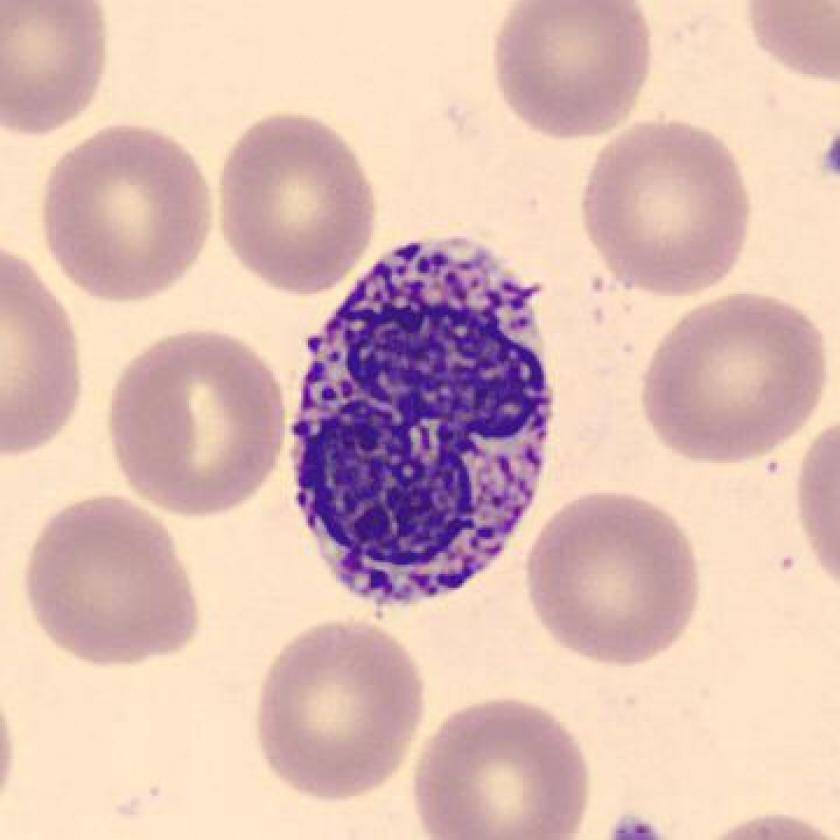basophil: (288, 221, 556, 612)
